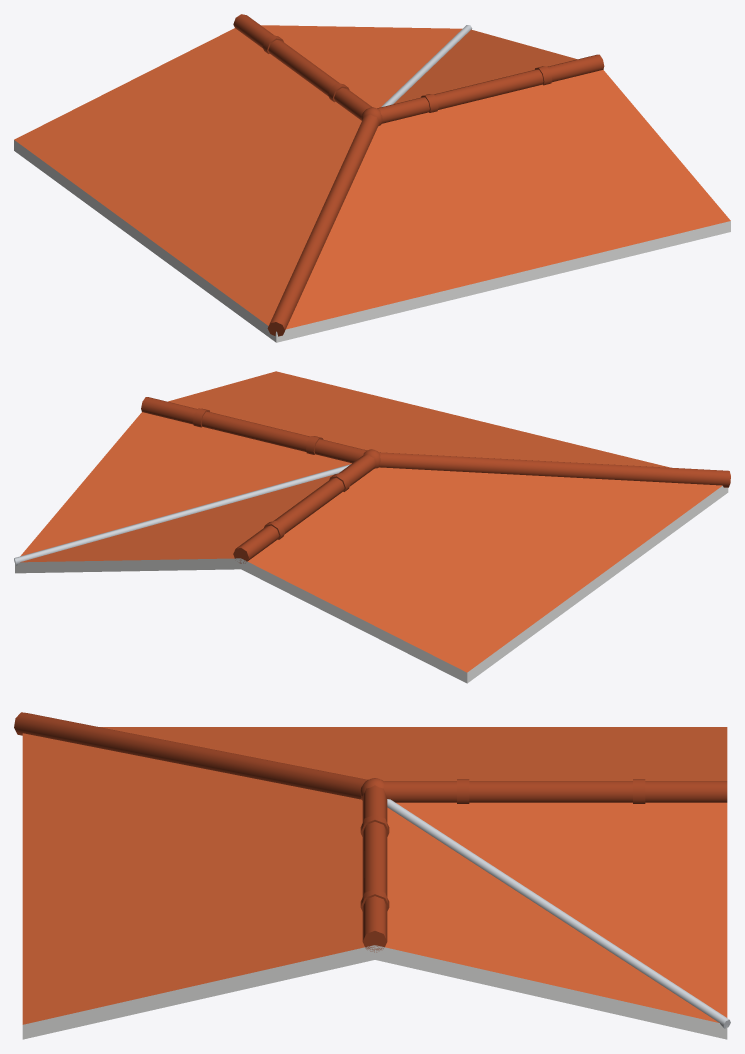
Rendered from telhado_canto_l_v4_i25.glb.
3 views of the same model, one above another, from view 1: azimuth 30°, elevation 25°; view 2: azimuth 150°, elevation 25°; view 3: azimuth 270°, elevation 25° (orthographic). The views are drawn at different scales.
Visible parts, largest first — view 1: telhado_canto_l_v4_i25; view 2: telhado_canto_l_v4_i25; view 3: telhado_canto_l_v4_i25.
Boxes of the visible parts, left/top/right/bottom form: telhado_canto_l_v4_i25: left=14, top=14, right=730, bottom=342; telhado_canto_l_v4_i25: left=14, top=371, right=730, bottom=683; telhado_canto_l_v4_i25: left=14, top=712, right=730, bottom=1039.
Bounding box in the file's own units: 4.07 × 0.6978 × 4.07.
4 materials, 1 textured.
